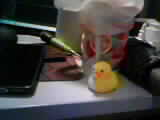duck: (77, 46, 132, 93)
